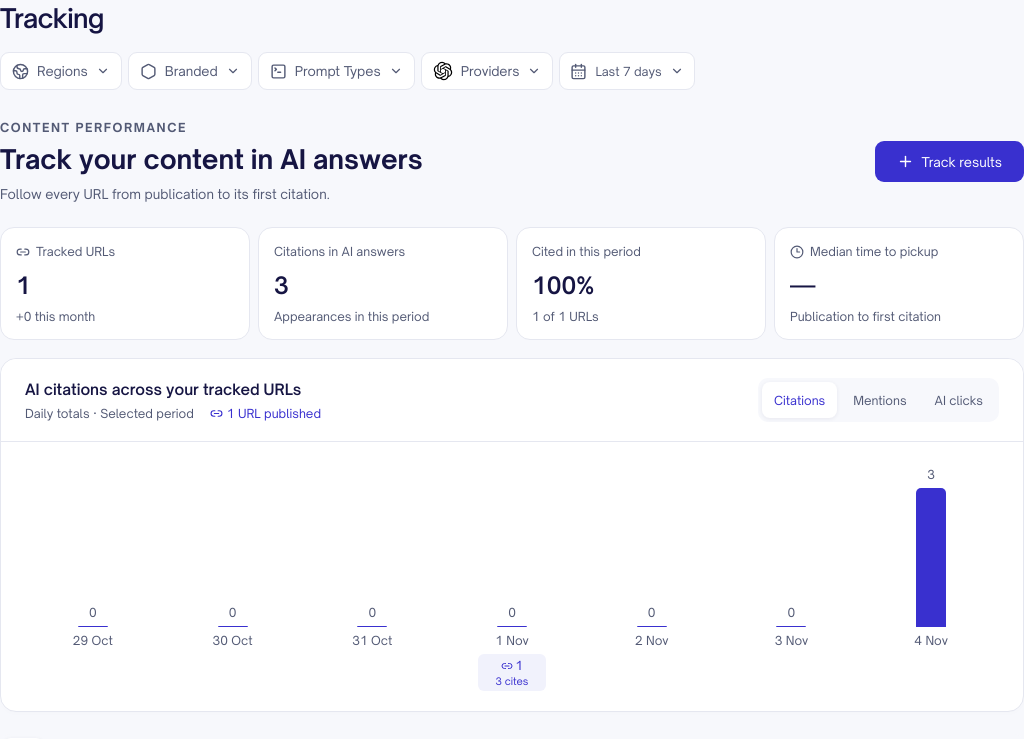
Test: Tracking report › renders fetched content and daily chart labels after loading
The image size is (1024, 739).
Expected: the element with class "tracking-month" shows "29 Oct", [73,634,113,648]
Expected: the 4th text "0" is shown, [508,606,516,620]
Step 1. Click the button with class "chart-publication-badge" → (512, 673), box [478,654,546,692]
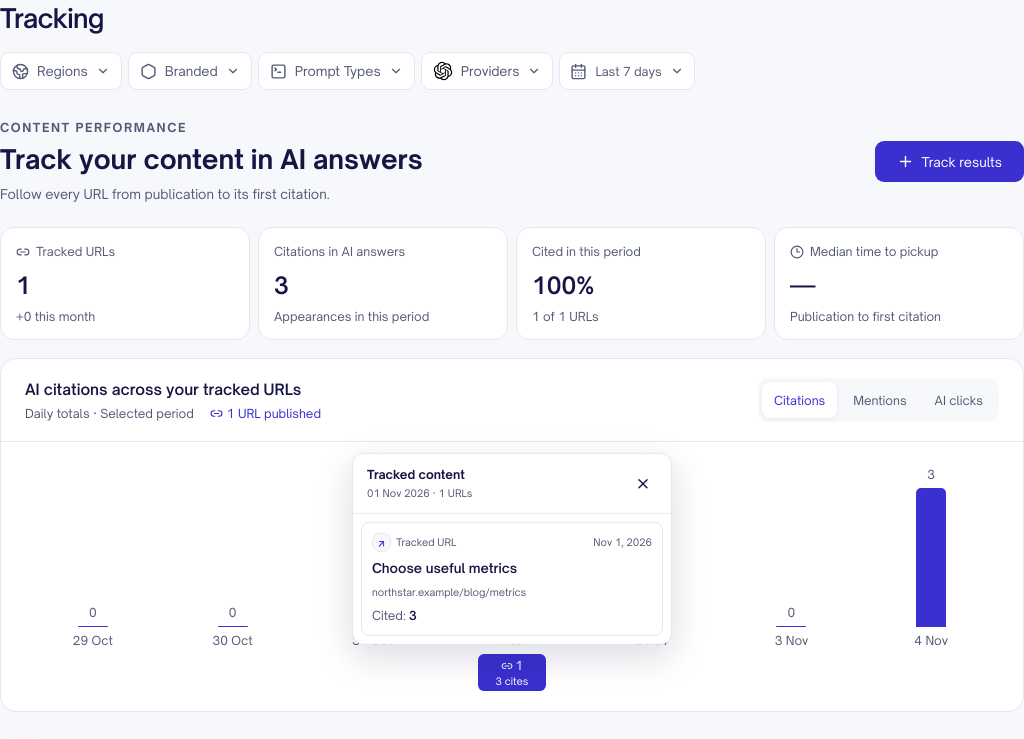
Result: the text "3" below "01 Nov 2026" is shown at [409,608,417,622]
Result: the text with class "marker-content-url" reads "northstar.example/blog/metrics" at [372,586,526,598]
